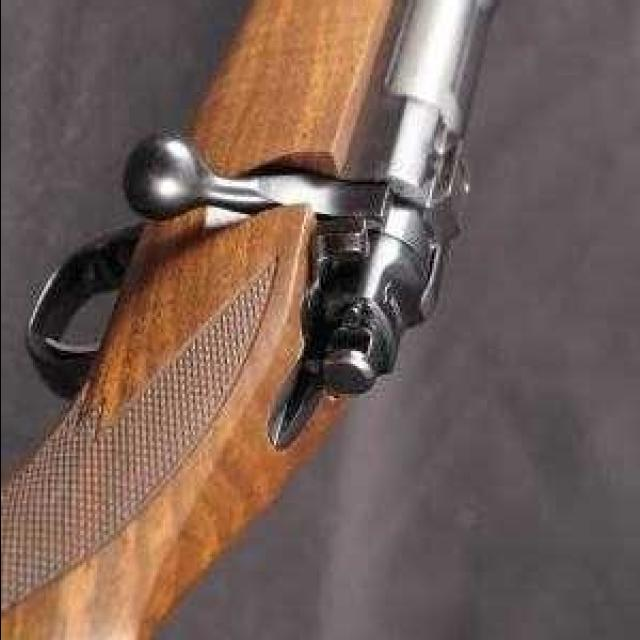heavyweapon: (1, 1, 535, 640)
